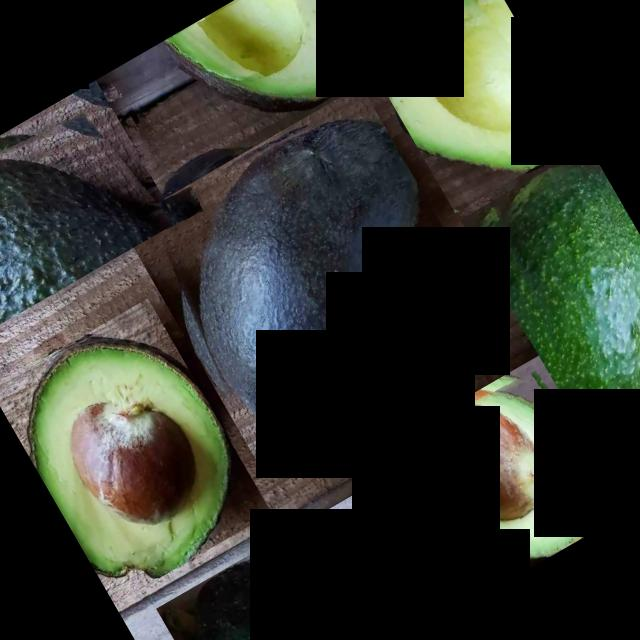avocado: (120, 85, 499, 463), (0, 298, 272, 604), (377, 352, 634, 604), (460, 145, 640, 481), (348, 0, 584, 213), (0, 79, 178, 340), (156, 489, 439, 640), (163, 0, 386, 155)
